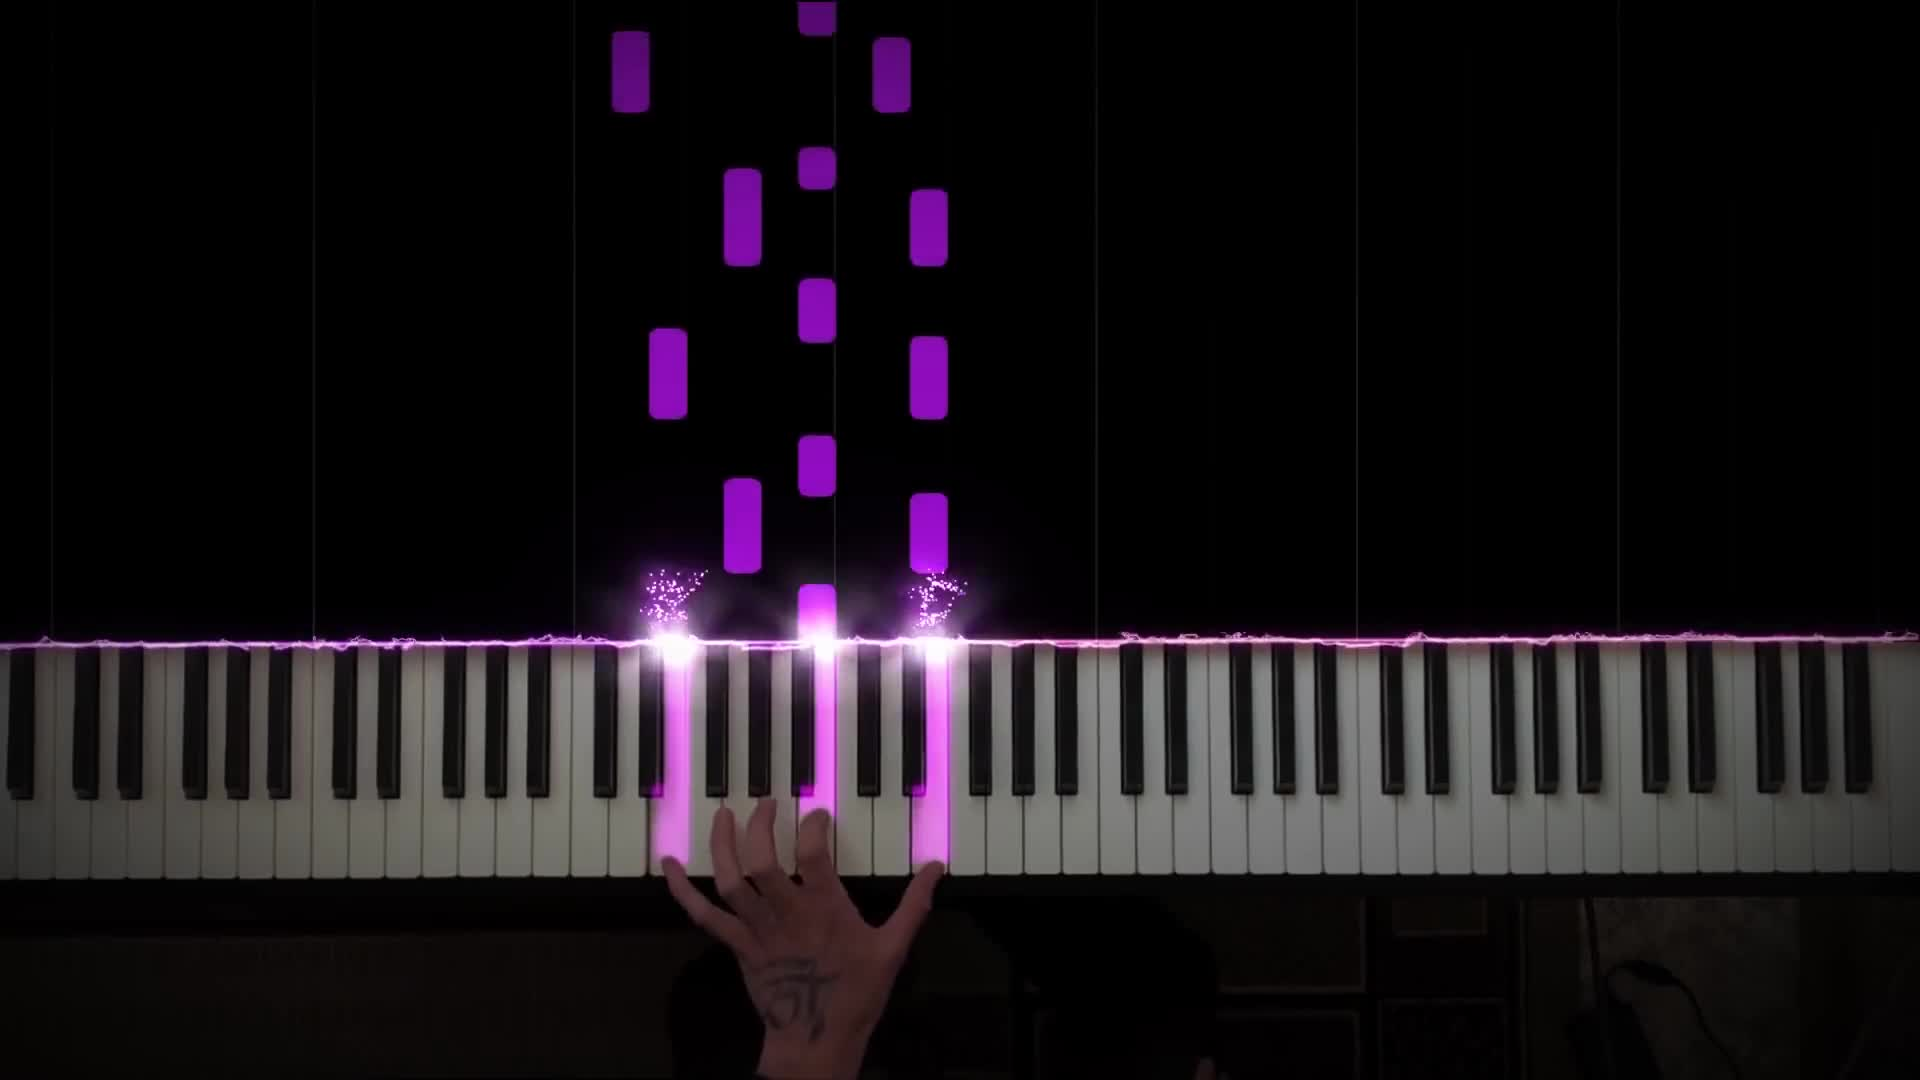left: (663, 796, 944, 1036)
